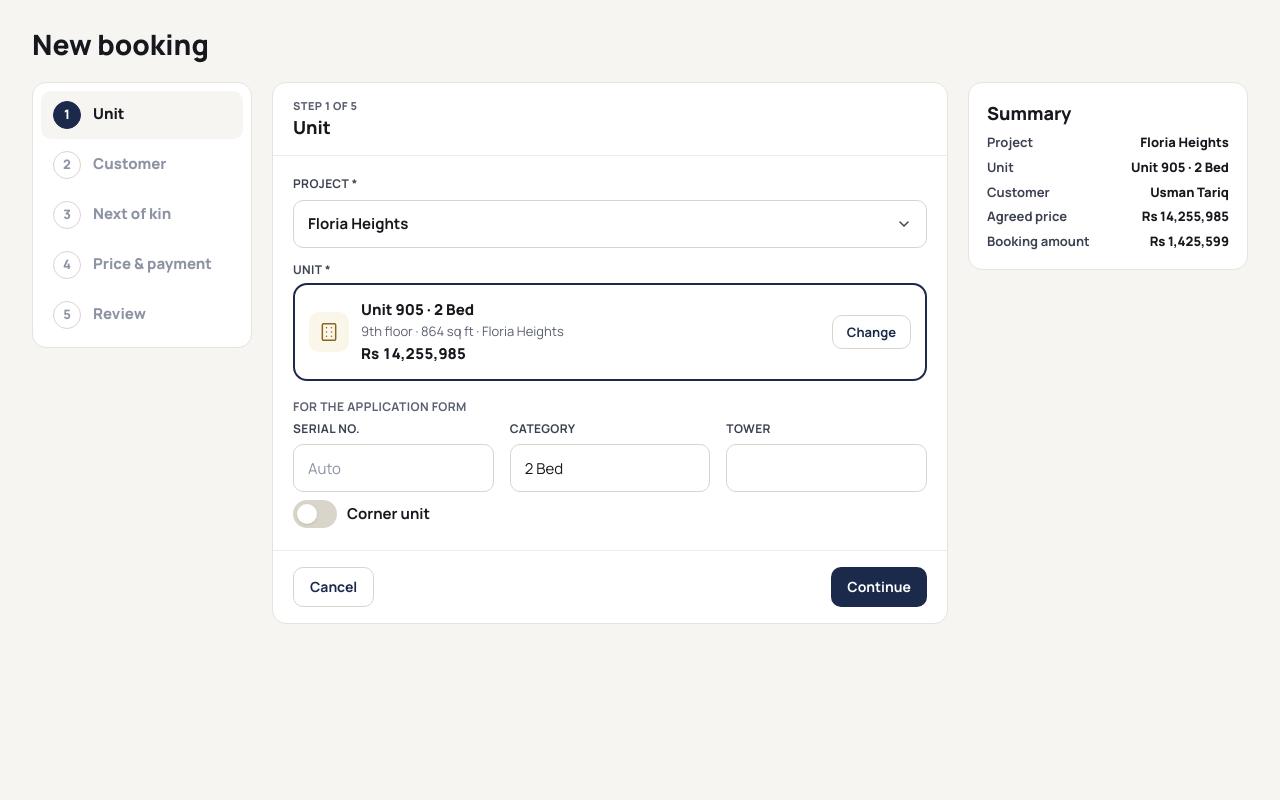
Scenario: Step 2 · Customer › opens with a customer already chosen, as Existing customer, when it comes from a customer page
This screenshot has width=1280, height=800.
Check: the text "Usman Tariq" is shown, box left=1150, top=183, right=1229, bottom=201
Click the button "Continue".
click(879, 587)  # box left=831, top=567, right=927, bottom=607
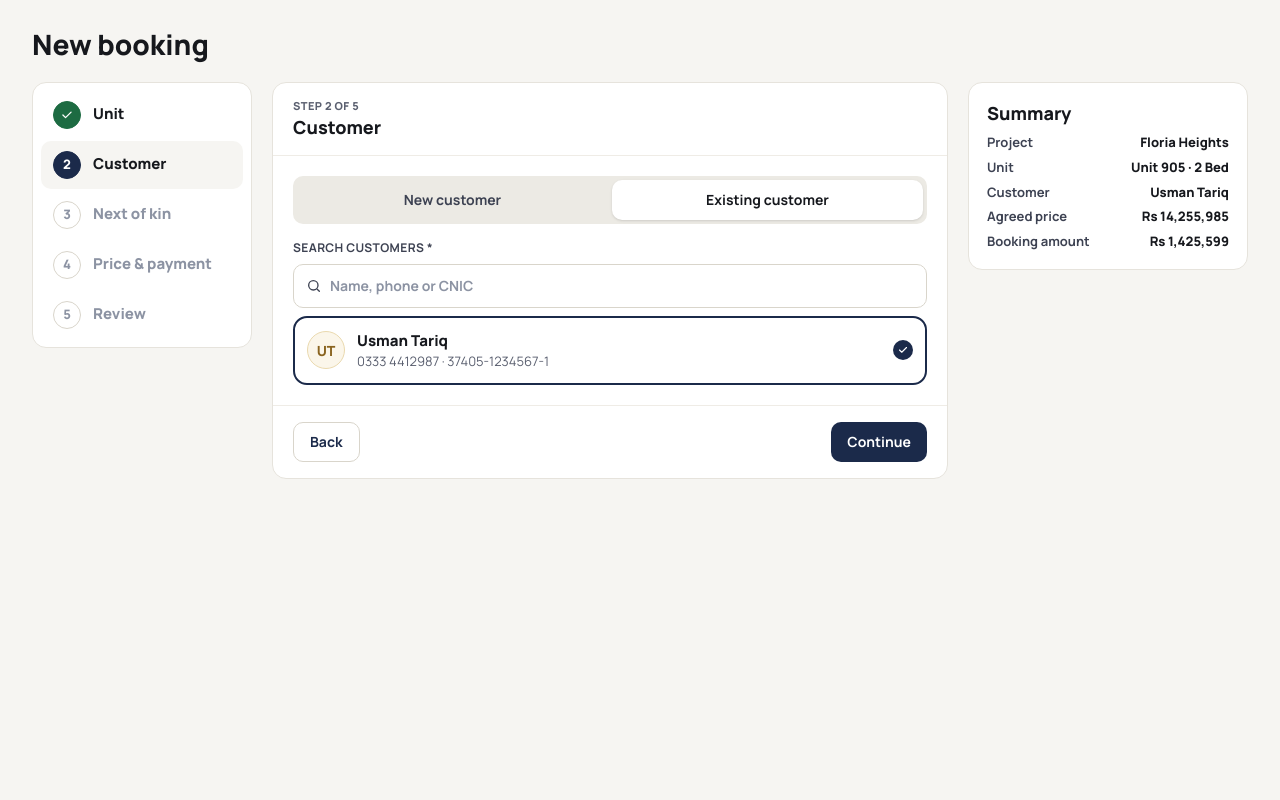
Check: the button "UT Usman Tariq 0333 4412987 · 37405-1234567-1" is shown, box left=293, top=316, right=927, bottom=385
